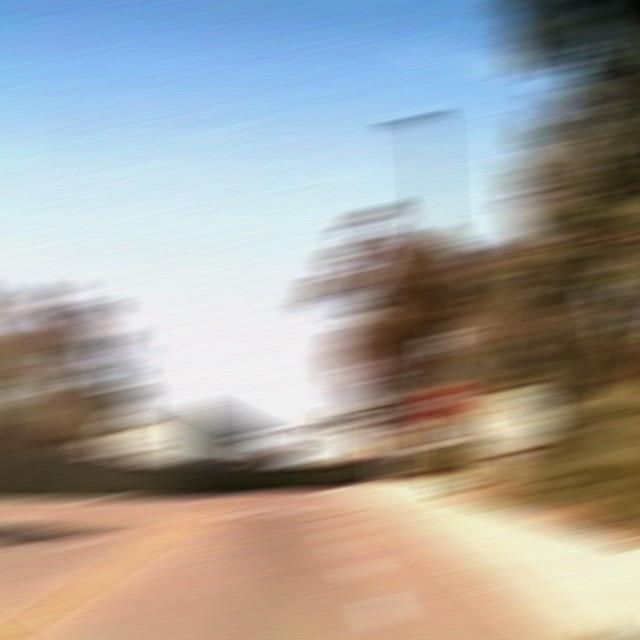stop: (420, 386, 464, 417)
